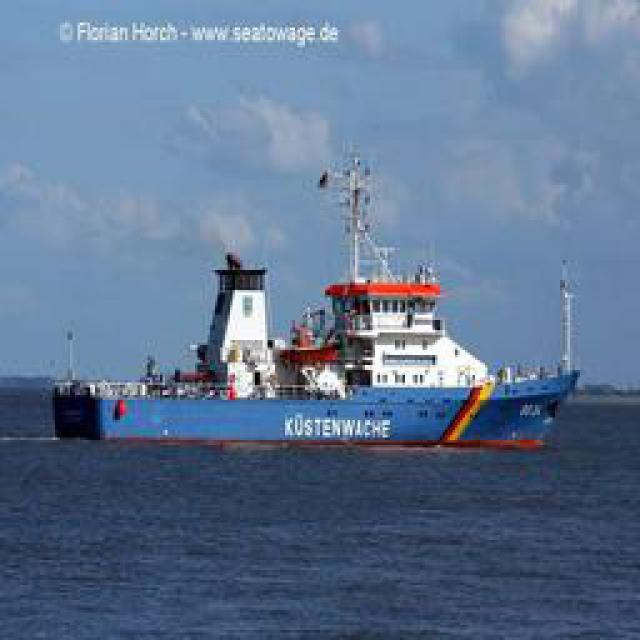Ship: (57, 150, 567, 448)
